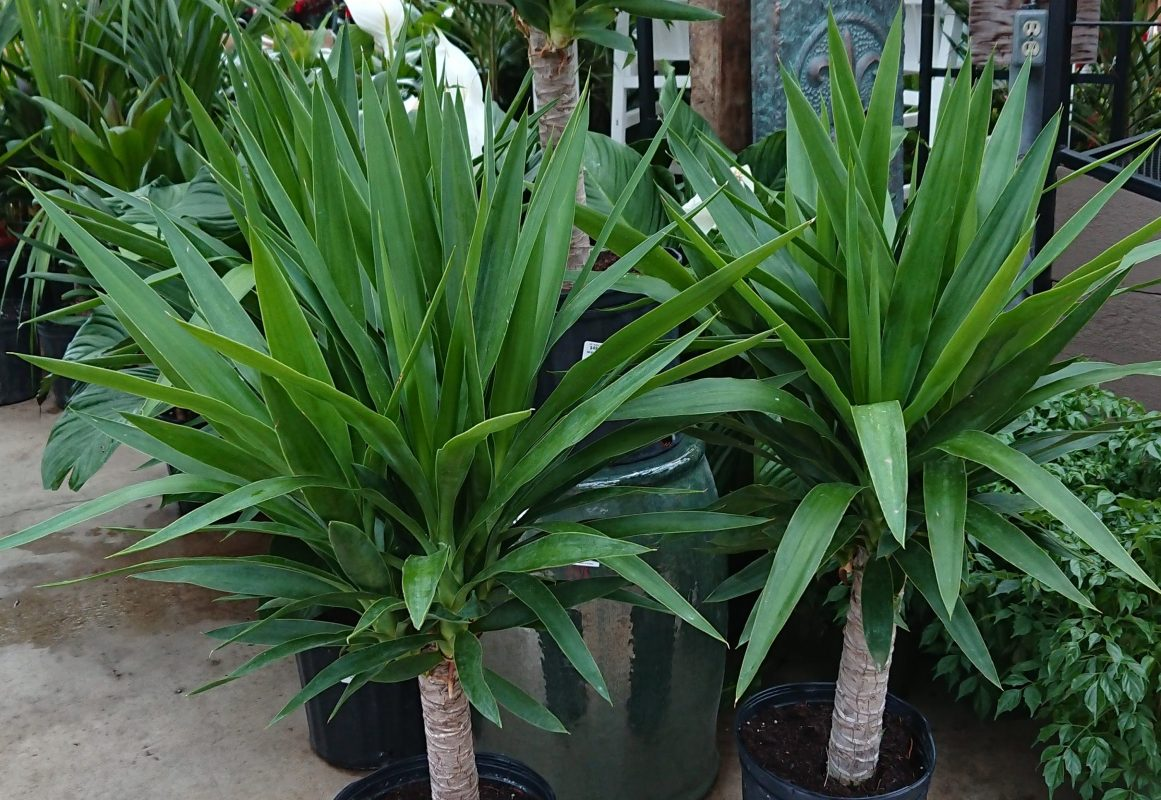plant: (68, 28, 702, 800), (642, 15, 1160, 767)
